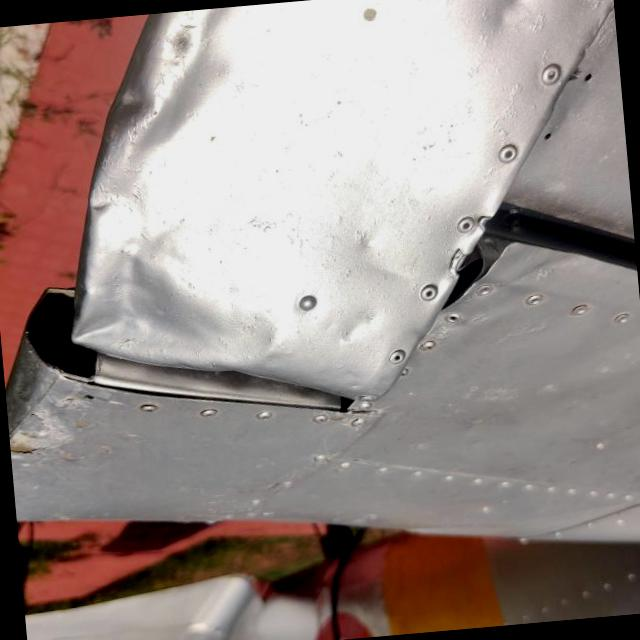dent: (81, 5, 266, 188), (42, 204, 226, 382), (460, 0, 554, 69)
